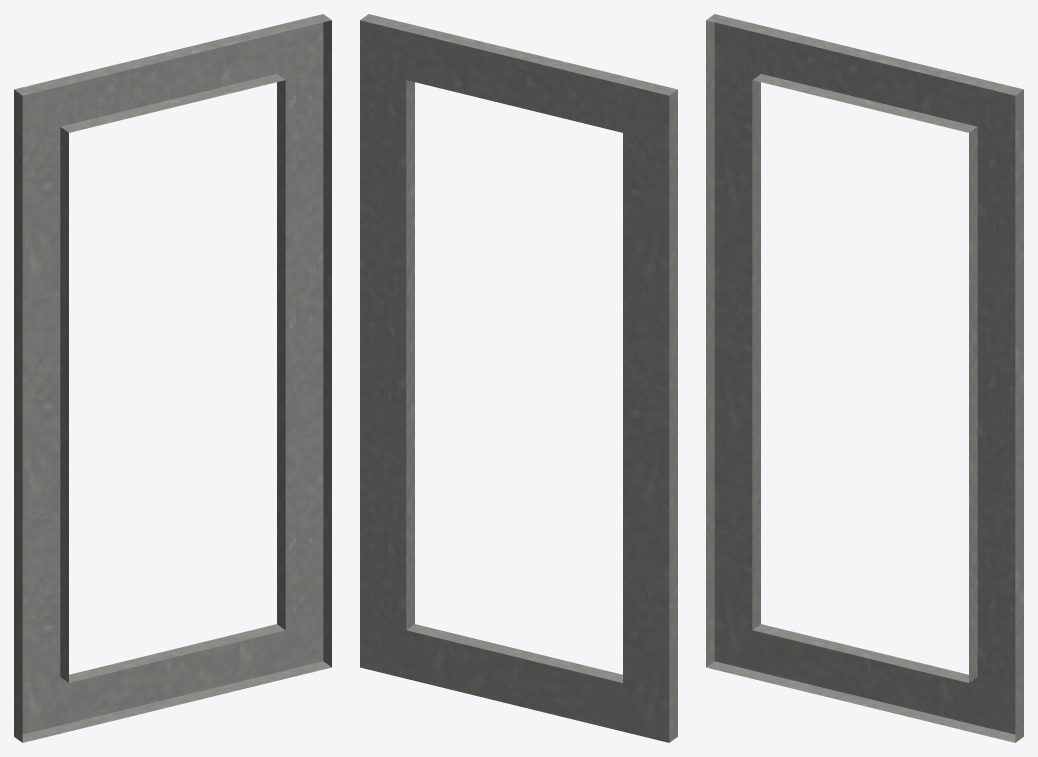
The model's file is GJ_Wall_Window_01_01.fbx.
The picture shows the model from 3 angles, left to right: view 1: azimuth 30°, elevation 25°; view 2: azimuth 150°, elevation 25°; view 3: azimuth 330°, elevation 25°; orthographic projection.
Parts seen in each view (by area): view 1: GJ_Wall_Window_01_01; view 2: GJ_Wall_Window_01_01; view 3: GJ_Wall_Window_01_01.
Part boxes in pixels (<box>): GJ_Wall_Window_01_01: <box>14,14,331,742</box>; GJ_Wall_Window_01_01: <box>360,14,677,742</box>; GJ_Wall_Window_01_01: <box>706,14,1023,742</box>.
Size of the model in its own units: 125 by 250 by 5.98.
